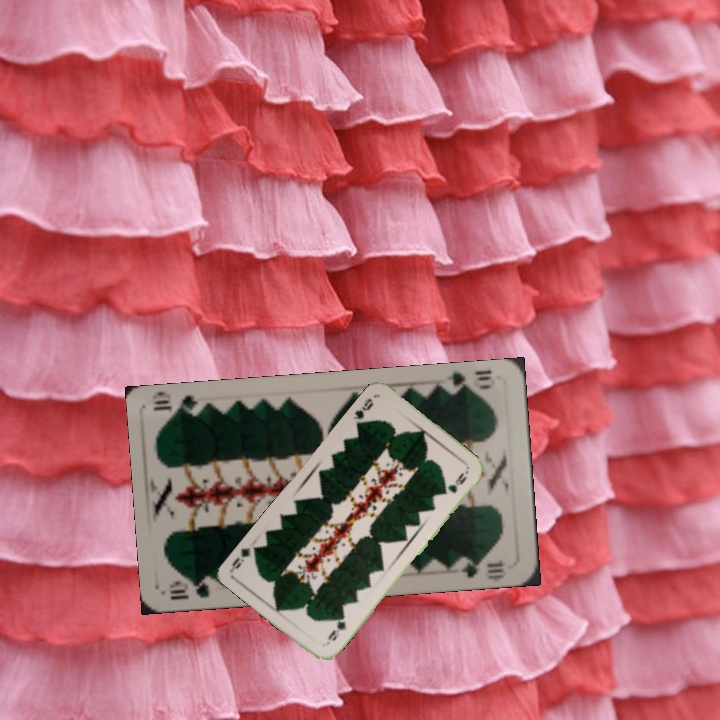G10: (441, 366, 497, 397), (165, 574, 212, 603)
G9: (322, 612, 349, 647), (349, 394, 376, 422)
